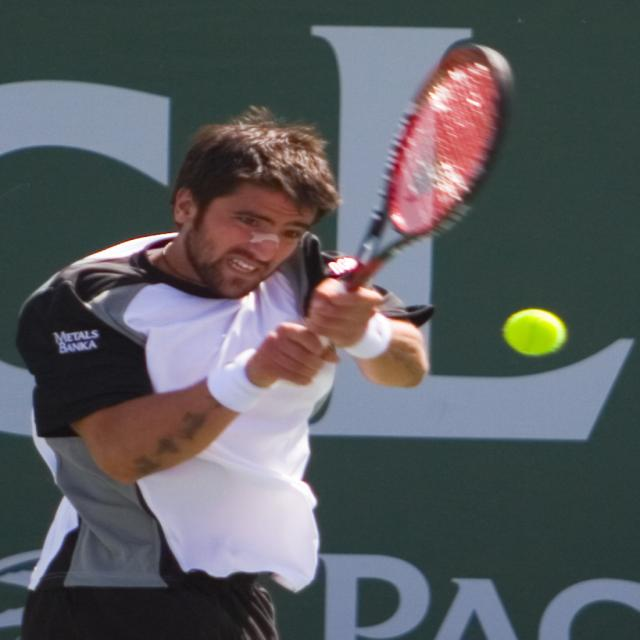ball: (505, 306, 563, 361)
